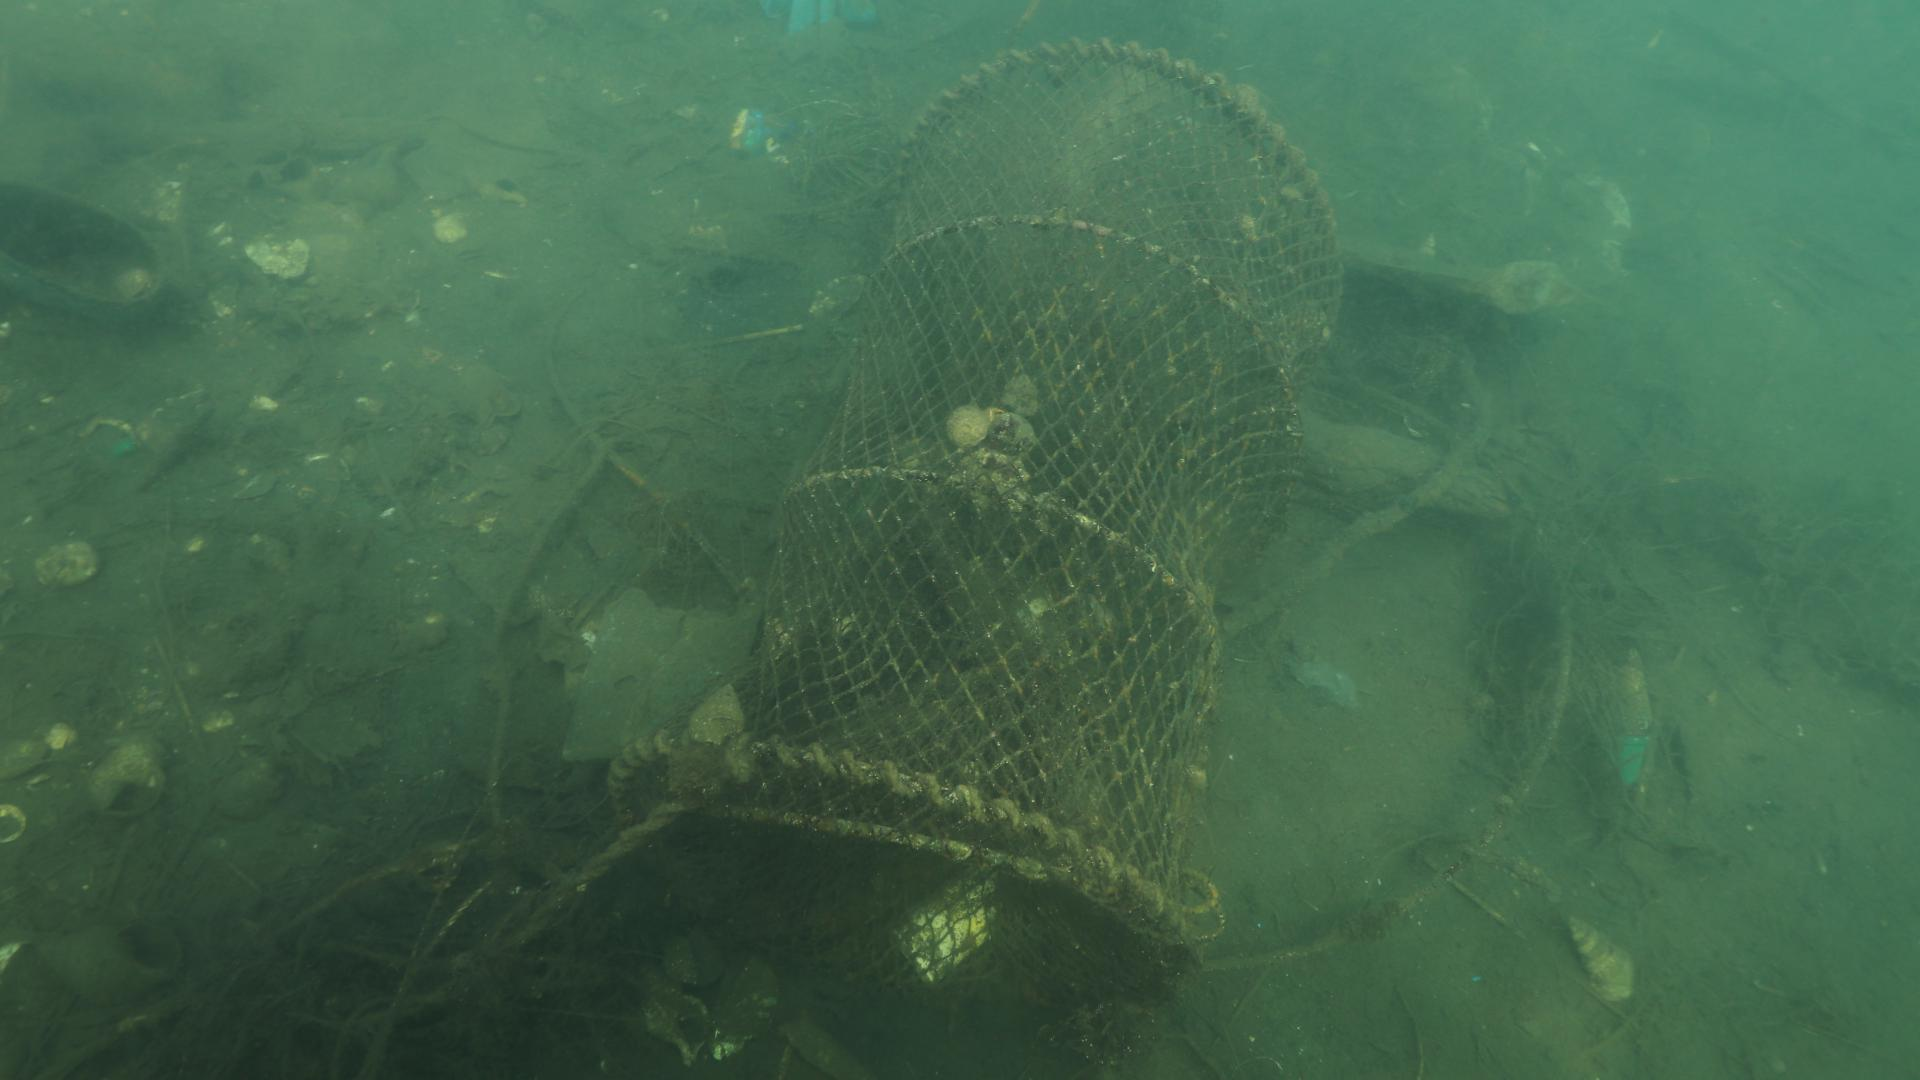spring fish trap: (604, 34, 1338, 1000)
